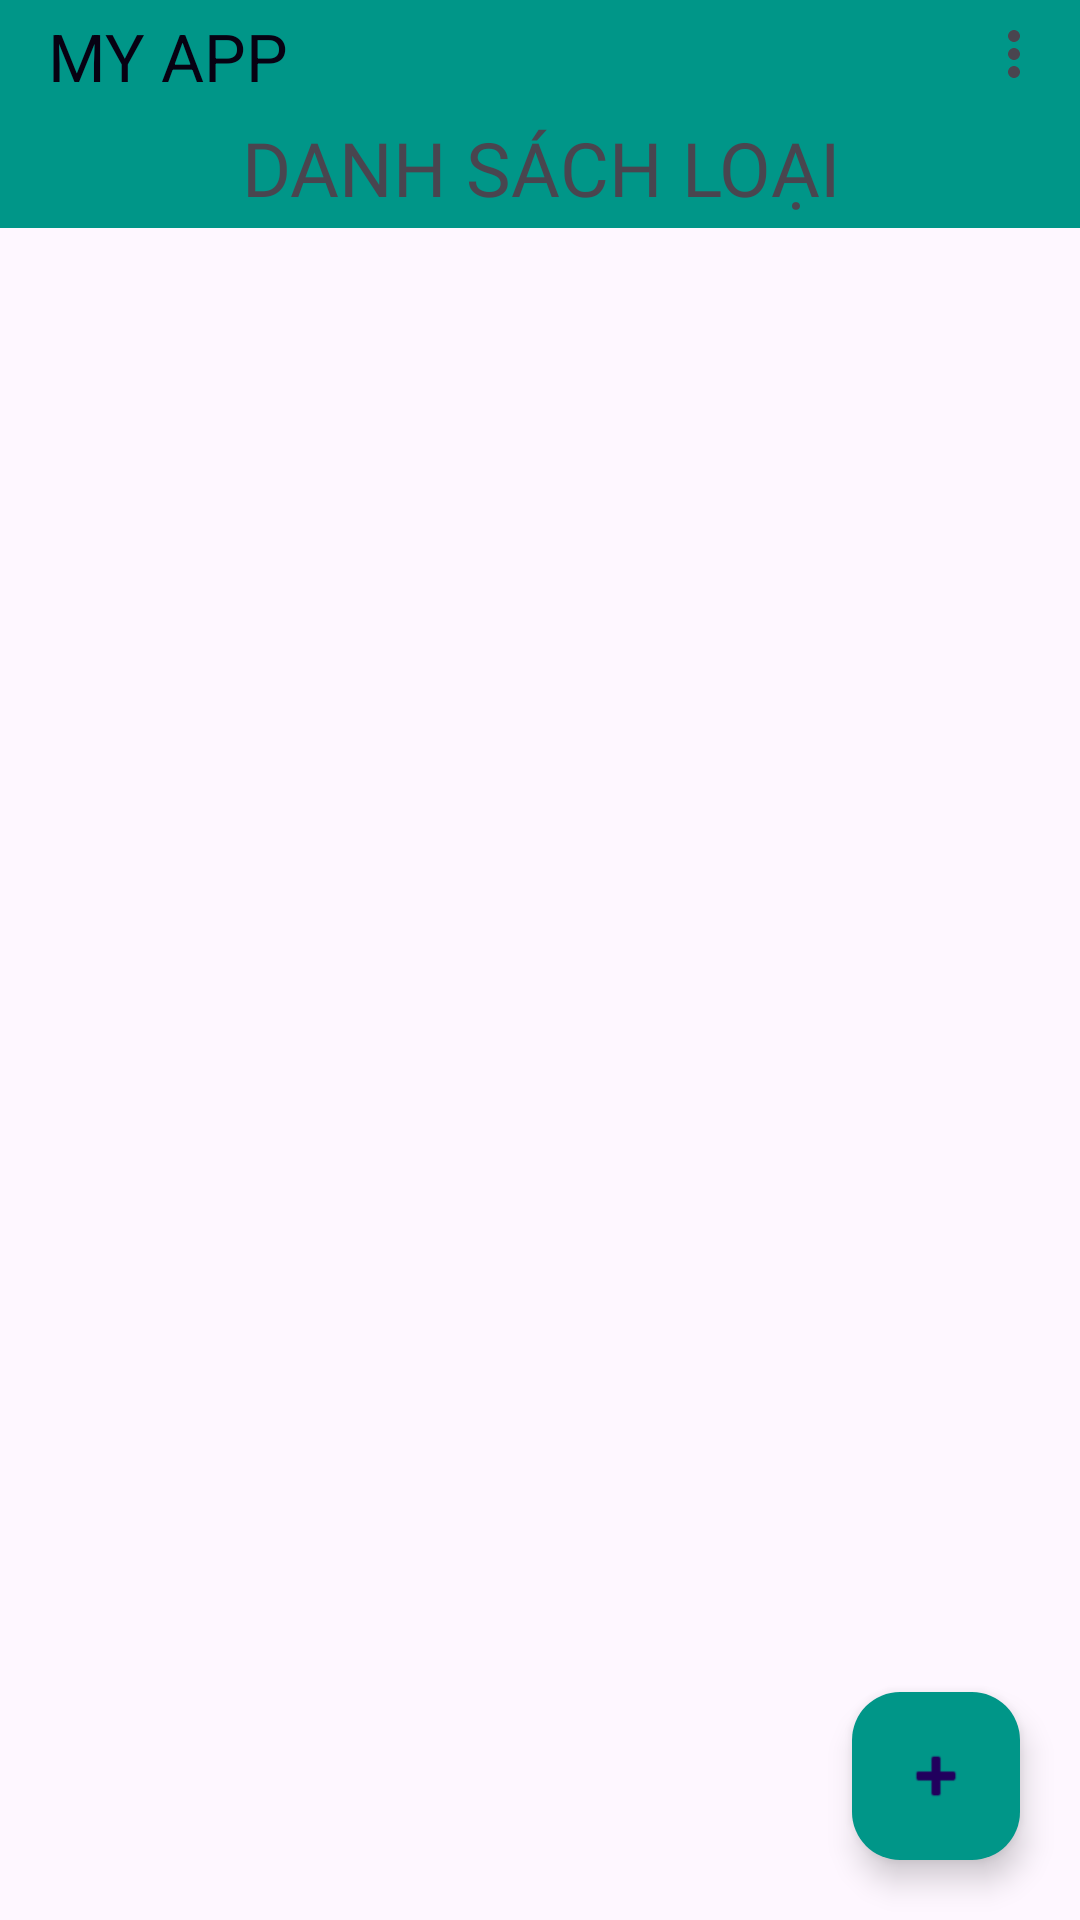

Screen size 1080*1920. Icon name, then its center in pixels as (x,y):
add: (936,1776)
